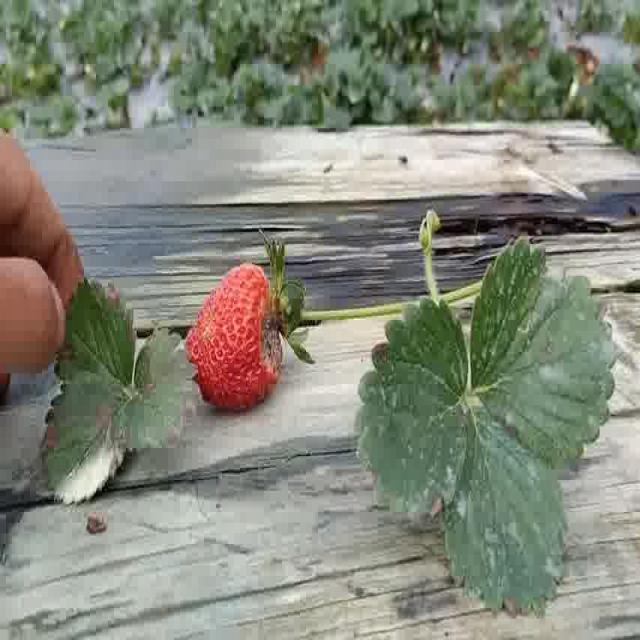Mancha negra Antracnosis: (180, 265, 287, 410)
